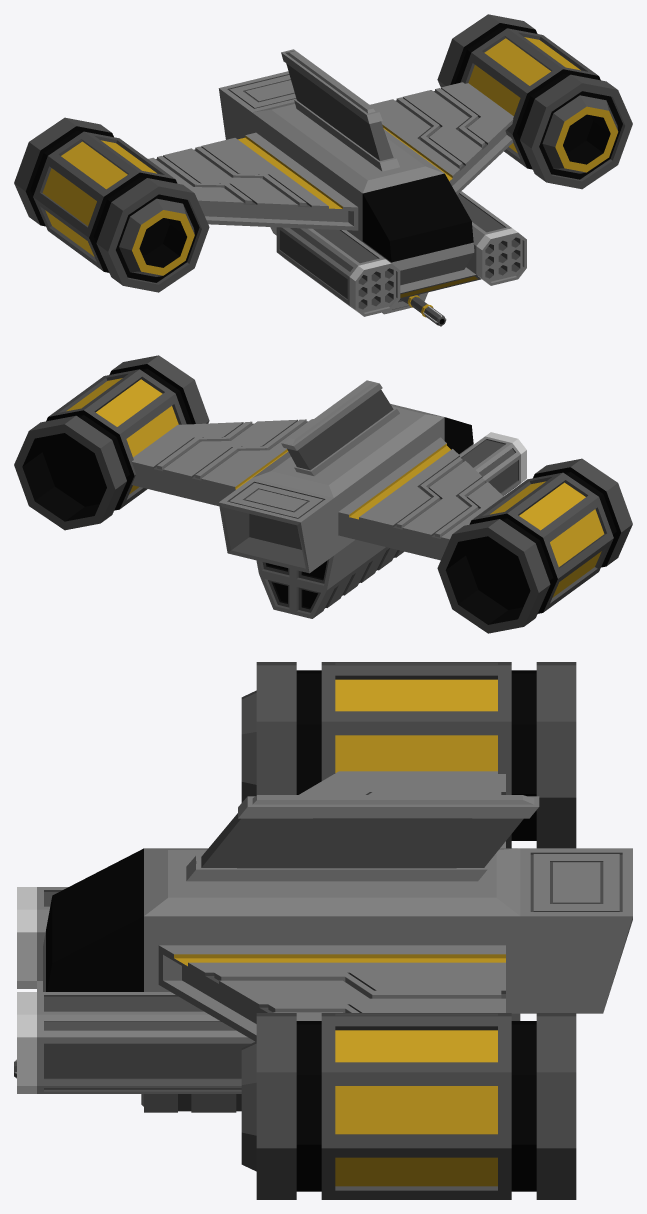
File: Spaceship14_1.fbx
The picture shows the model from 3 angles, top to bottom: view 1: azimuth 30°, elevation 25°; view 2: azimuth 150°, elevation 25°; view 3: azimuth 270°, elevation 25°; orthographic projection. The views are drawn at different scales.
Visible parts, largest first — view 1: Spaceship14_1; view 2: Spaceship14_1; view 3: Spaceship14_1.
Part boxes in pixels (x1,y1,x2,y2): Spaceship14_1: [14, 14, 632, 326]; Spaceship14_1: [14, 355, 632, 633]; Spaceship14_1: [14, 662, 632, 1199].
Bounding box in the file's own units: 3717 × 1192 × 2236.
